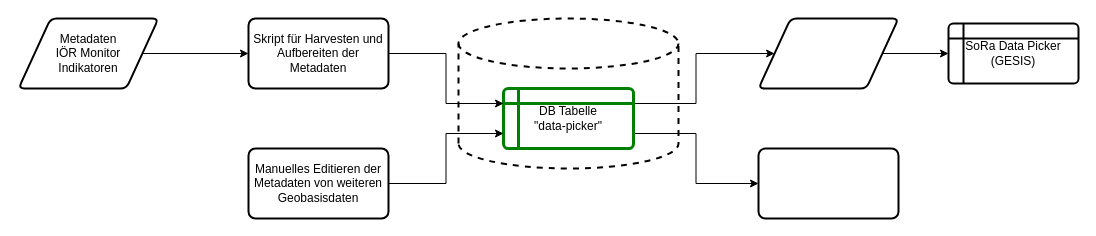
Some shapes in this 1096 by 236 pixel diagram are drawn without their labels. Here are the shapes that lost their labels. From the top down, the centre of each, then its label:
At (x=828, y=53): "API Route GET /data-picker".
At (x=828, y=183): "Verwendung für Verarbeitung der Verknüpfungsnfrage".
